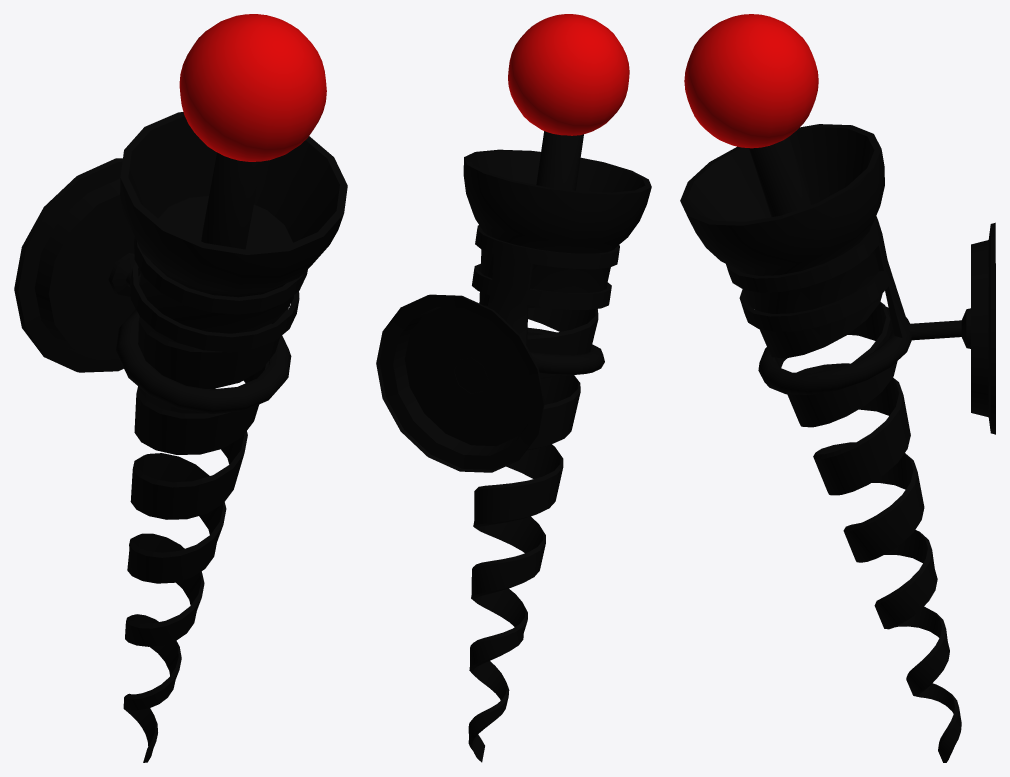
The model's file is SM_MedLight.fbx.
3 views of the same model, side by side, from view 1: azimuth 30°, elevation 25°; view 2: azimuth 150°, elevation 25°; view 3: azimuth 270°, elevation 25° (orthographic). The views are drawn at different scales.
Parts seen in each view (by area): view 1: iron_wall_light; view 2: iron_wall_light; view 3: iron_wall_light.
Boxes of the visible parts, x1,y1,x2,y2 form: iron_wall_light: (14, 14, 347, 762); iron_wall_light: (376, 14, 651, 762); iron_wall_light: (680, 14, 995, 762).
Size of the model in its own units: 11.71 by 45.25 by 17.41.
